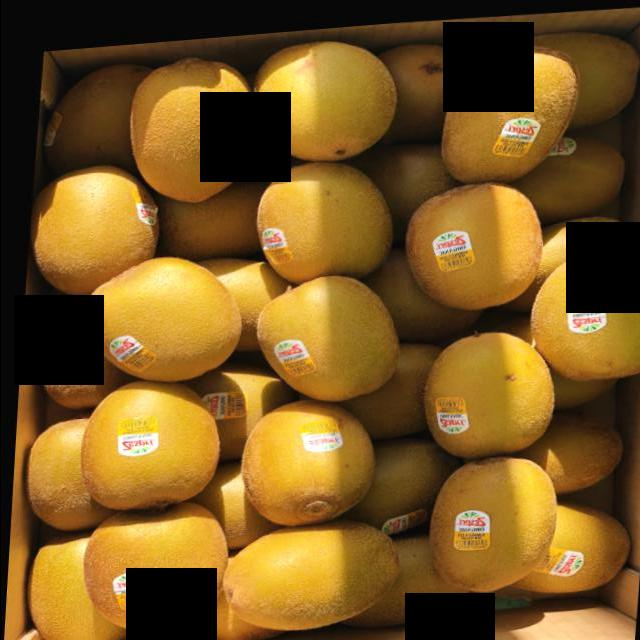kiwi: (110, 39, 268, 203), (74, 239, 250, 378), (245, 266, 404, 408), (424, 39, 570, 192), (388, 172, 545, 312), (516, 228, 640, 404), (221, 512, 398, 635), (70, 368, 237, 497), (228, 386, 375, 525), (247, 35, 393, 170), (237, 153, 394, 278), (425, 328, 567, 463), (425, 456, 555, 595), (23, 148, 167, 268), (493, 485, 632, 601), (81, 534, 233, 640), (17, 518, 135, 640), (22, 403, 133, 527)
